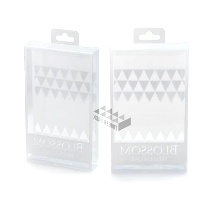plastic_box: (105, 19, 195, 180), (18, 22, 104, 176)
